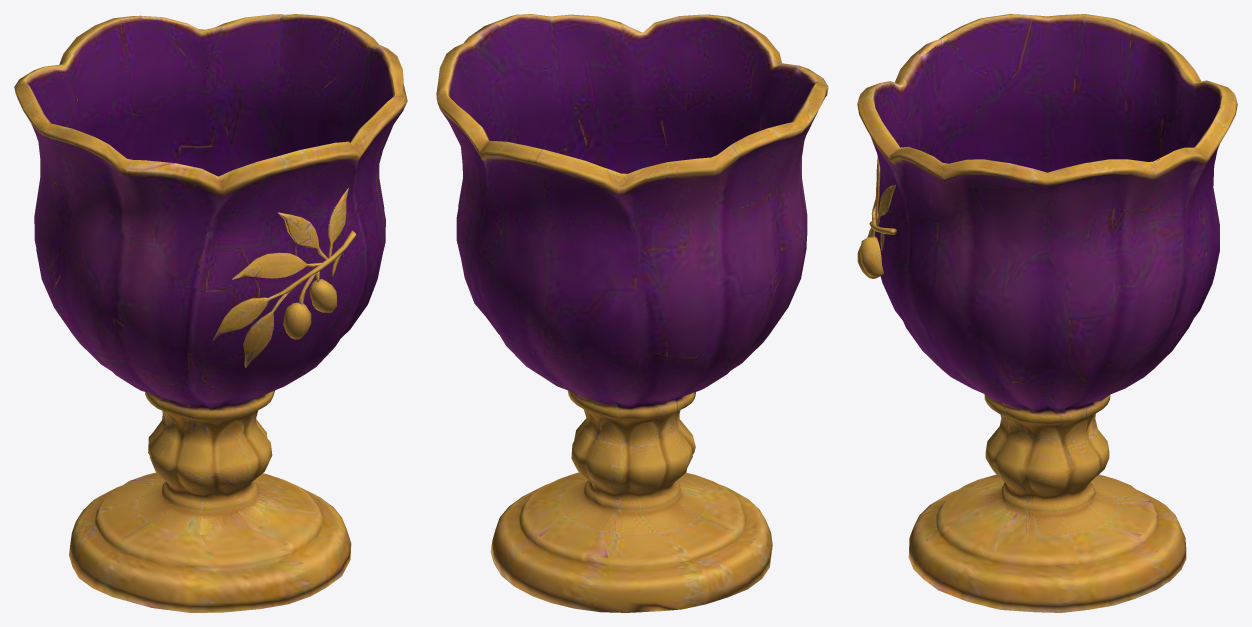
The model's file is Meshy_AI_purple_goblet_1109192244_texture.glb.
The picture shows the model from 3 angles, left to right: view 1: azimuth 30°, elevation 25°; view 2: azimuth 150°, elevation 25°; view 3: azimuth 270°, elevation 25°; orthographic projection. The views are drawn at different scales.
Visible parts, largest first — view 1: geometry_0; view 2: geometry_0; view 3: geometry_0.
Part boxes in pixels (bbox=[...]): geometry_0: bbox=[14, 14, 407, 612]; geometry_0: bbox=[436, 14, 828, 612]; geometry_0: bbox=[857, 14, 1237, 612].
Size of the model in its own units: 0.7119 by 0.9512 by 0.7041.
1 material, 1 textured.
